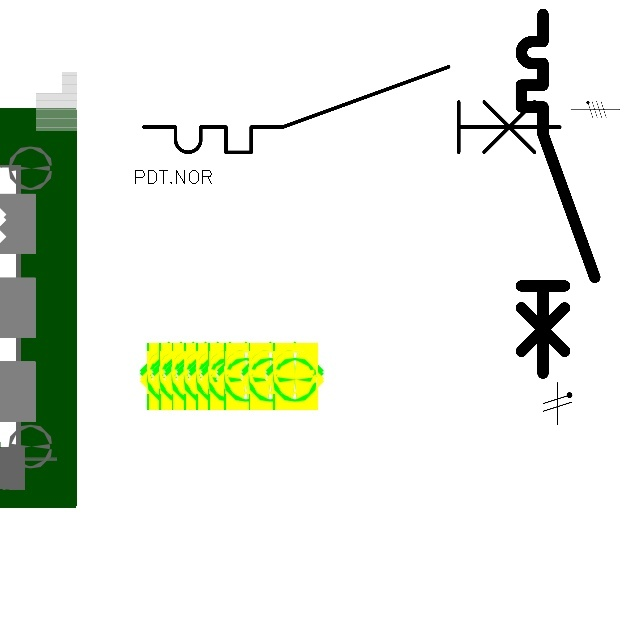interruptor_termomagnetico: (133, 56, 570, 163), (512, 5, 604, 382)
